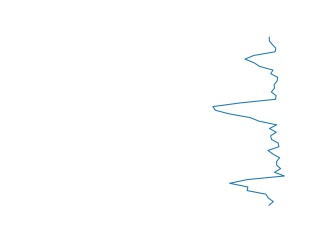underwaterNaturalLevee: (209, 37, 289, 210)
